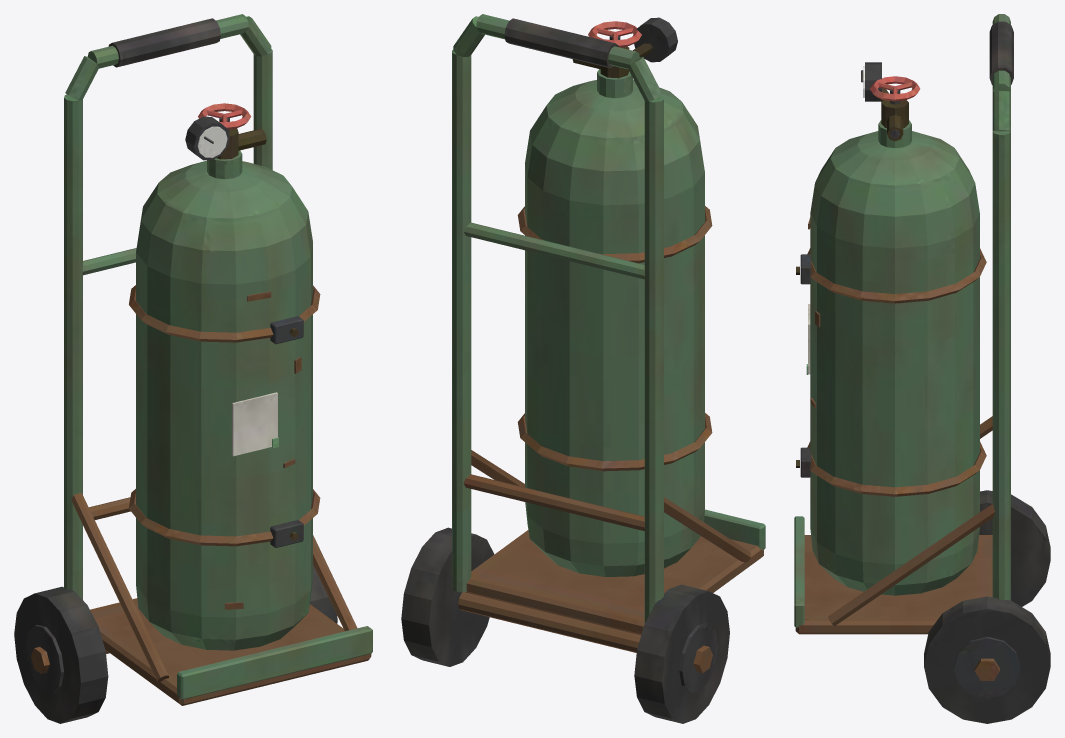
File: H10_oxygen_cylinder.glb
The picture shows the model from 3 angles, left to right: view 1: azimuth 30°, elevation 25°; view 2: azimuth 150°, elevation 25°; view 3: azimuth 270°, elevation 25°; orthographic projection. The views are drawn at different scales.
Parts seen in each view (by area): view 1: Green oxygen pressure vessel; view 2: Green oxygen pressure vessel; view 3: Green oxygen pressure vessel.
Part boxes in pixels (x1,y1,x2,y2): Green oxygen pressure vessel: (14, 14, 372, 723); Green oxygen pressure vessel: (401, 14, 765, 723); Green oxygen pressure vessel: (794, 14, 1050, 723).
Bounding box in the file's own units: 0.5336 × 1.2 × 0.4514.
10 materials, 10 textured.
